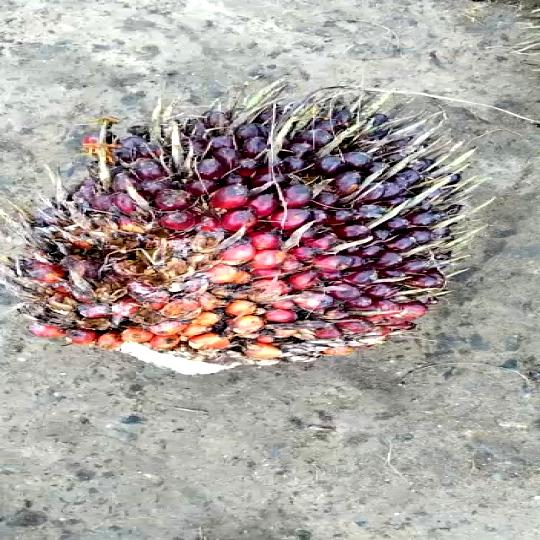kurang masak: (0, 80, 540, 410)
